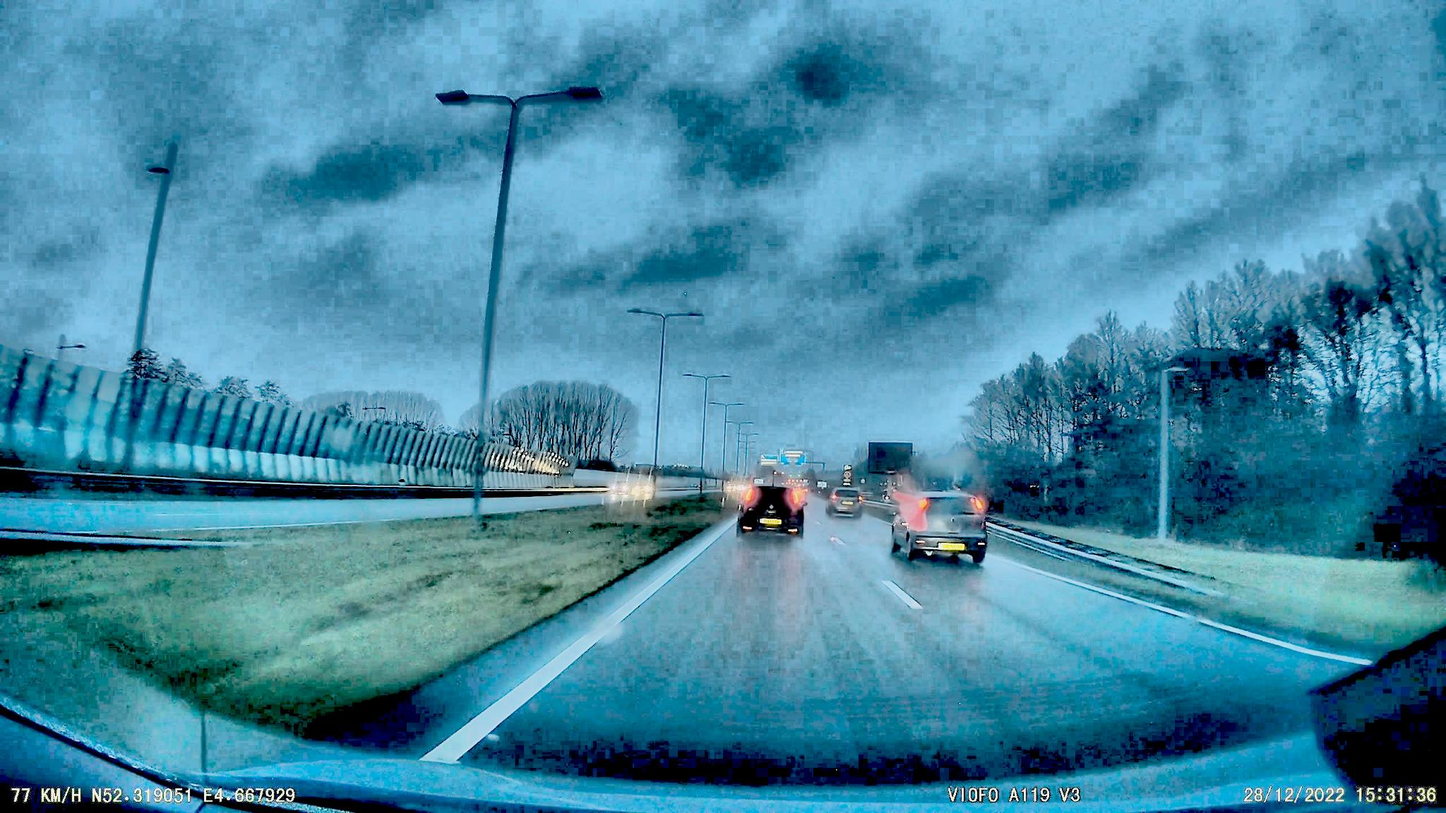Roads: (459, 513, 1354, 803)
